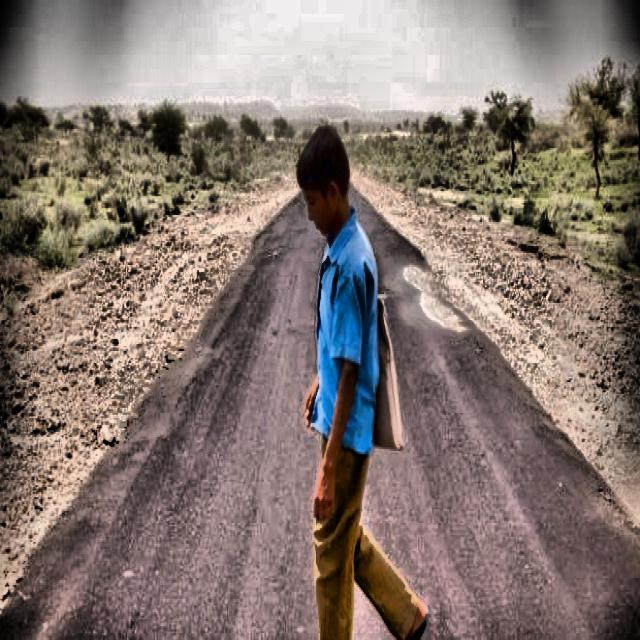Human: (296, 127, 428, 639)
